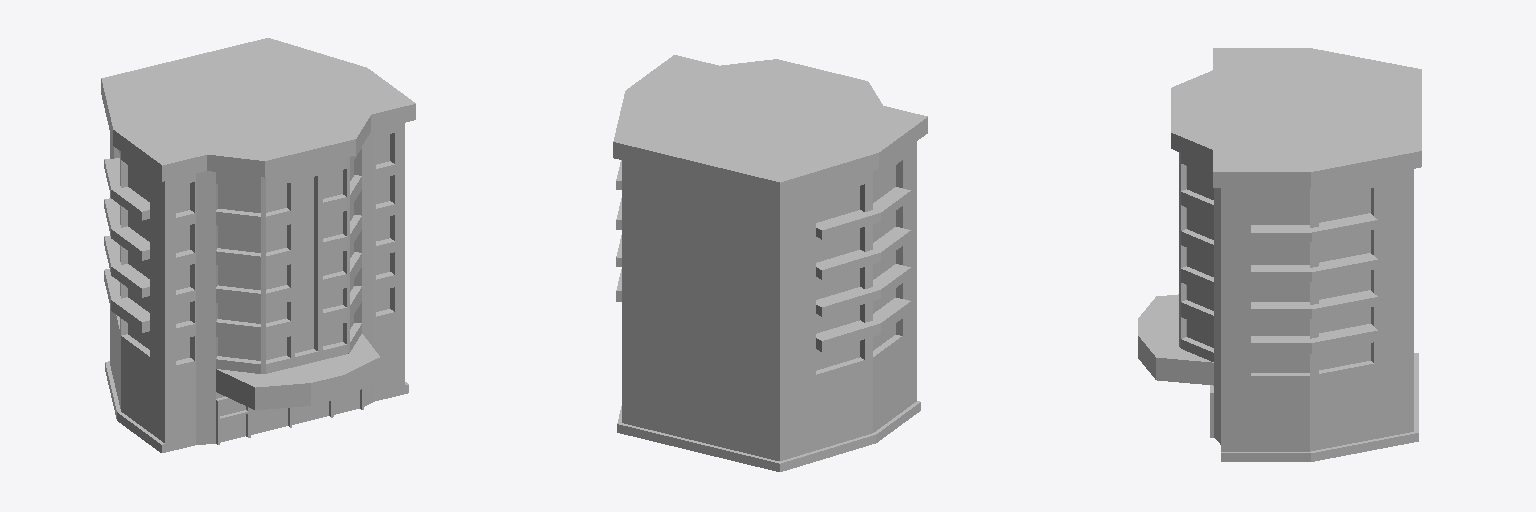
File: predio2.OBJ
The picture shows the model from 3 angles: view 1: azimuth 30°, elevation 25°; view 2: azimuth 150°, elevation 25°; view 3: azimuth 270°, elevation 25°; orthographic projection.
Parts seen in each view (by area): view 1: Group39230, Group59031, Group34246, Group45583, Group54352, Group43094, Group59469; view 2: Group39230, Group59031, Group45583, Group34246, Group54352; view 3: Group39230, Group59031, Group34246, Group45583, Group54352.
Boxes of the visible parts, <box> form: Group39230: <box>110,123,404,452</box>; Group59031: <box>101,38,415,181</box>; Group34246: <box>128,134,389,442</box>; Group45583: <box>104,158,395,409</box>; Group54352: <box>105,353,408,452</box>; Group43094: <box>175,133,395,398</box>; Group59469: <box>216,388,363,444</box>; Group39230: <box>622,142,916,460</box>; Group59031: <box>613,55,927,198</box>; Group45583: <box>616,160,910,351</box>; Group34246: <box>816,165,895,370</box>; Group54352: <box>617,401,920,471</box>; Group39230: <box>1179,152,1413,451</box>; Group59031: <box>1171,48,1421,187</box>; Group34246: <box>1187,166,1370,372</box>; Group45583: <box>1138,213,1377,385</box>; Group54352: <box>1221,353,1418,461</box>.
Size of the model in its own units: 0.8522 by 0.9233 by 0.8165.